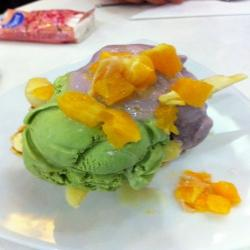icecream: (72, 40, 223, 160)
